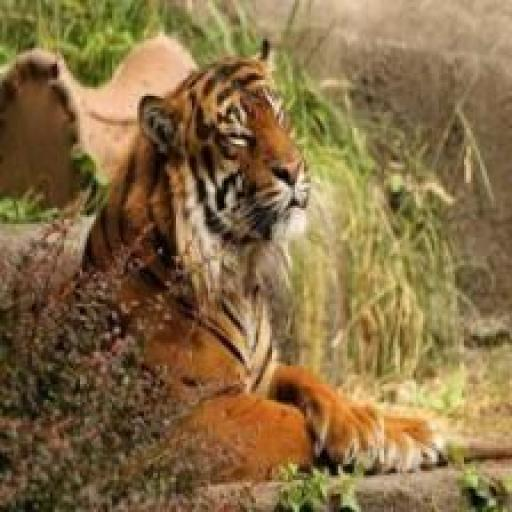Tiger: (0, 44, 448, 512)
